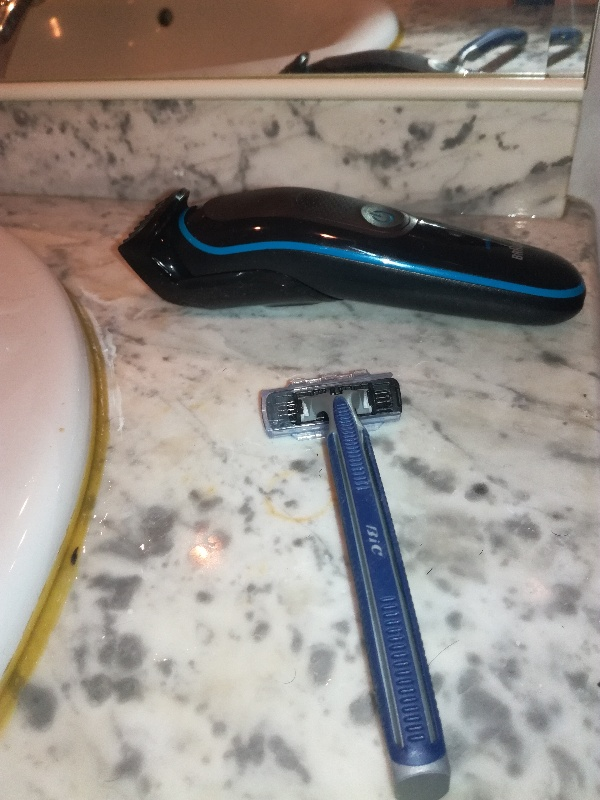beard trimmer: (118, 187, 587, 325)
gilete: (257, 368, 452, 800)
